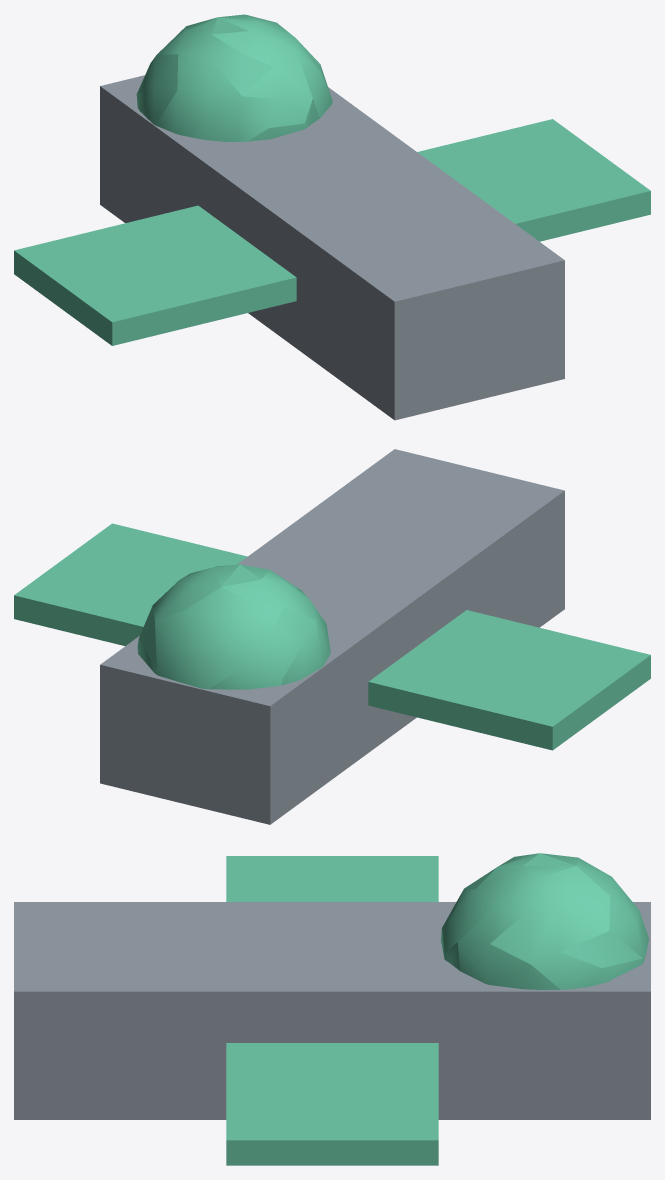
File: CO_KawasemiDrone_LOD2.glb
3 renders of one model, top to bottom at view 1: azimuth 30°, elevation 25°; view 2: azimuth 150°, elevation 25°; view 3: azimuth 270°, elevation 25°, orthographic. The views are drawn at different scales.
Parts seen in each view (by area): view 1: Cockpit; view 2: Cockpit; view 3: Cockpit.
Part boxes in pixels (x1,y1,x2,y2): Cockpit: (14,14,650,420); Cockpit: (14,449,650,824); Cockpit: (14,853,650,1165).
Bounding box in the file's own units: 190 × 65.81 × 180.
